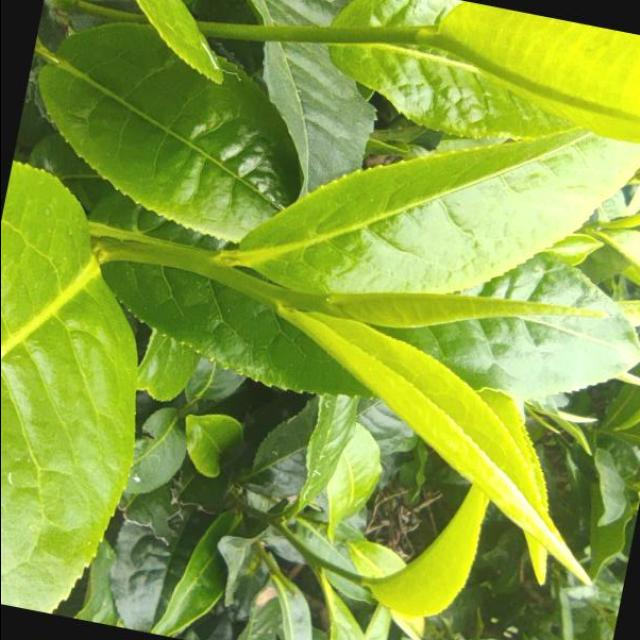Stem: (198, 253, 229, 274)
